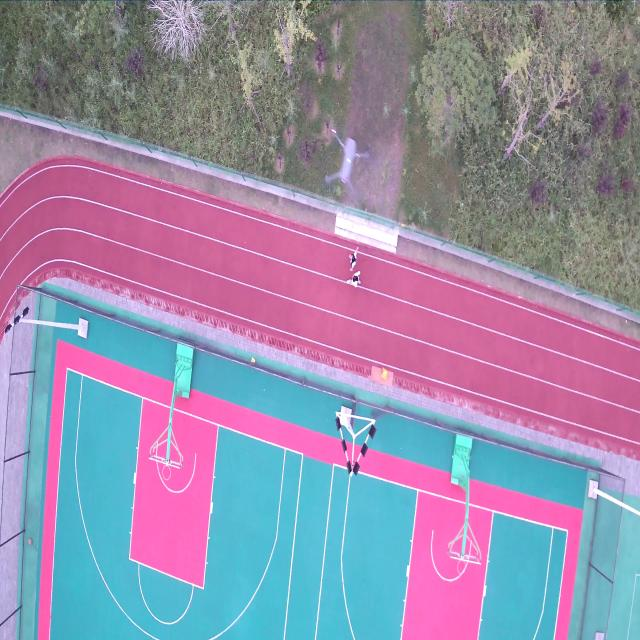UAV: (323, 128, 371, 202)
